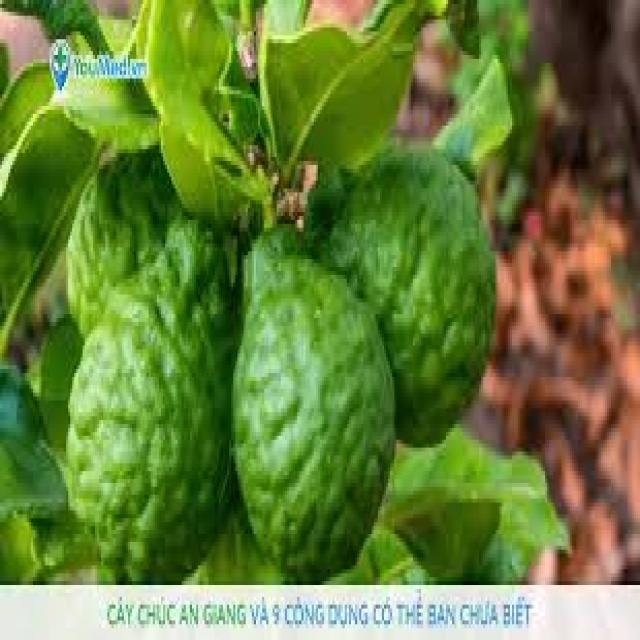Chuc: (62, 145, 233, 581), (304, 138, 498, 448), (230, 220, 396, 577)
